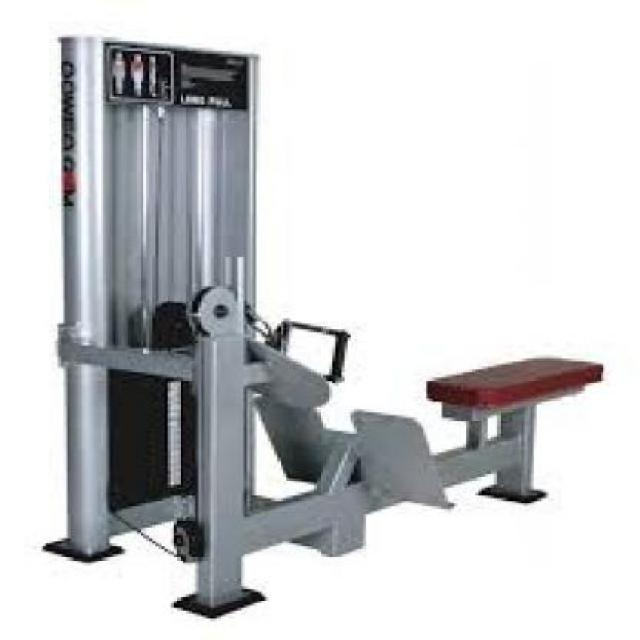Seated Cable Rows: (39, 25, 616, 624)
